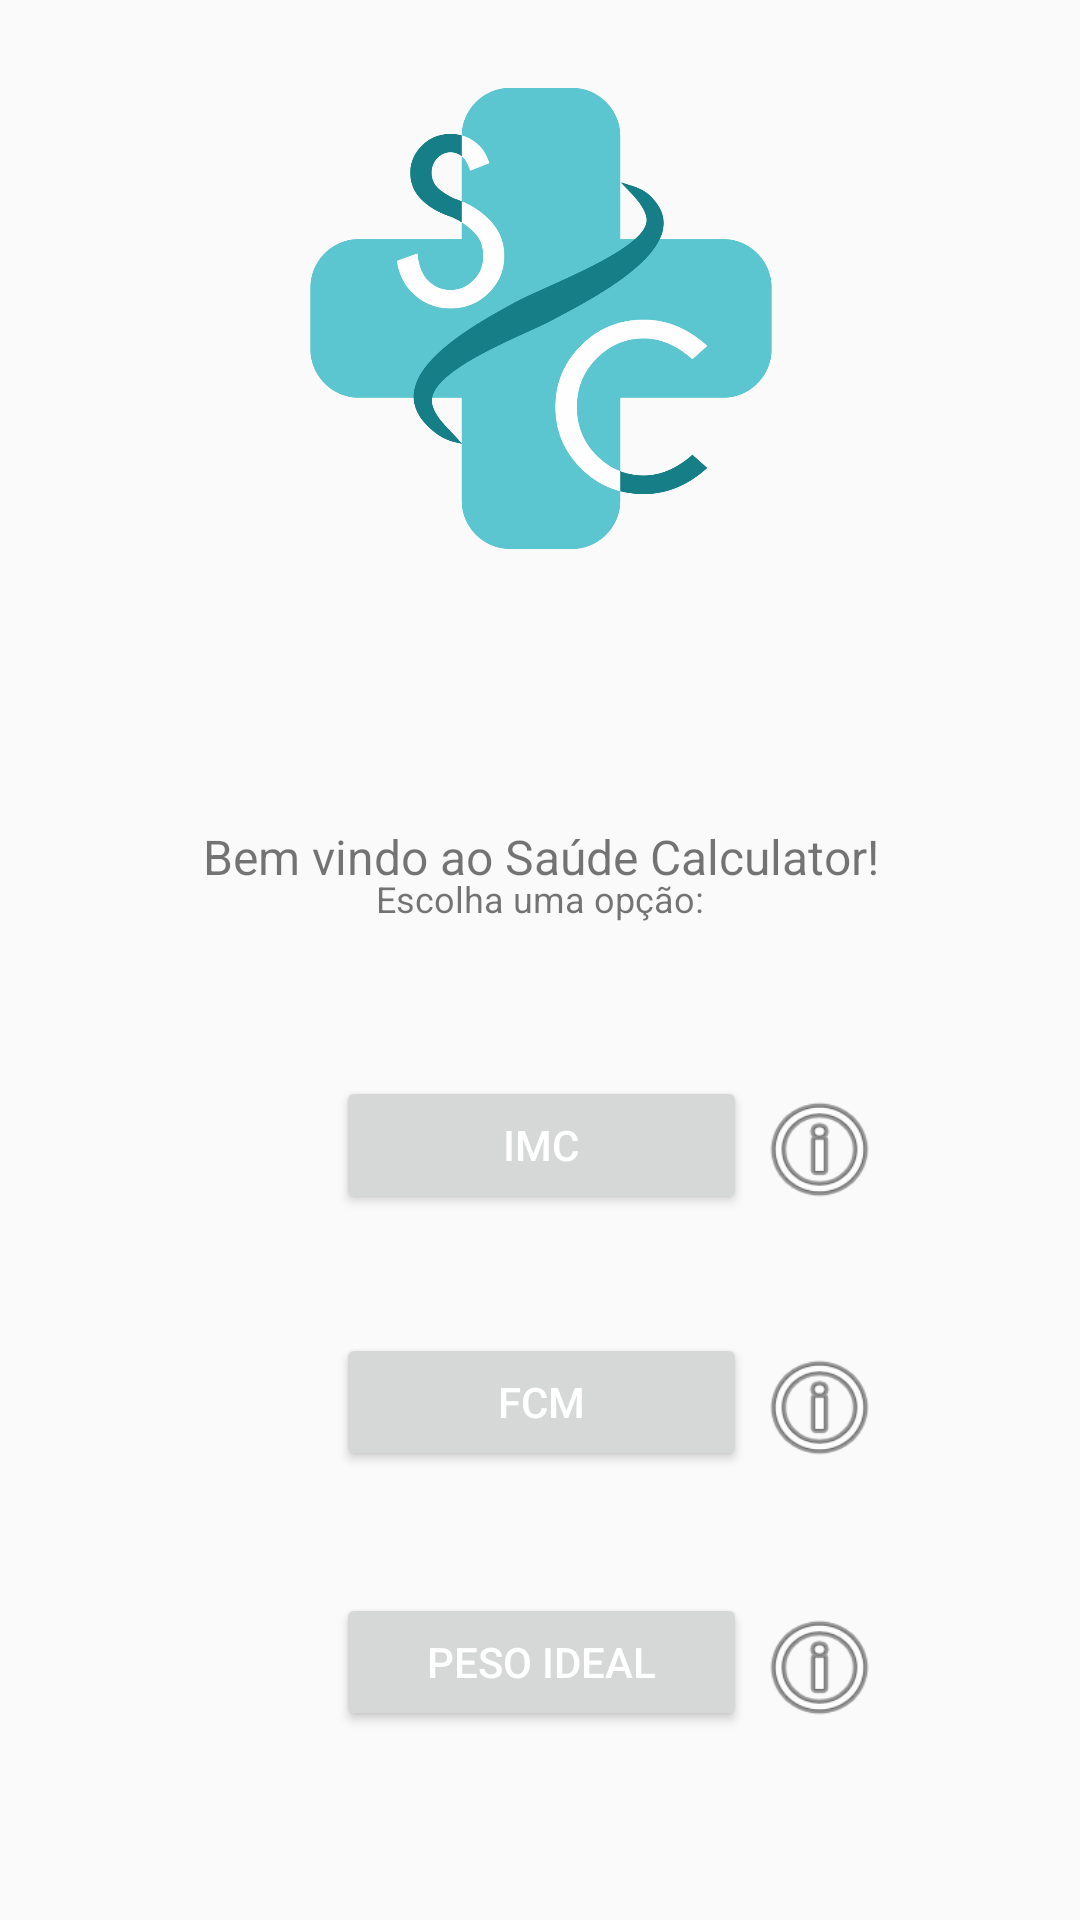

Point at icon controls on the screen. Image size 1080×1920, points as point (x, y).
info details: point (819, 1149), point (819, 1407), point (819, 1667)
